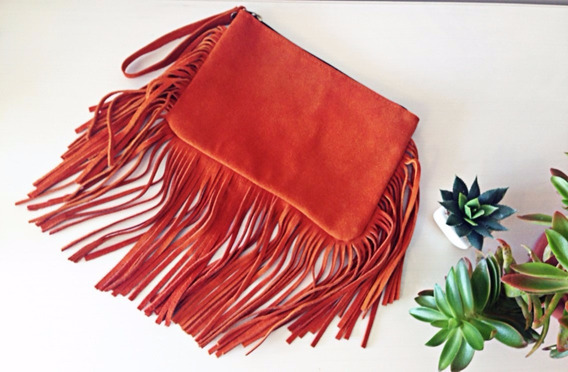cartera: (162, 7, 423, 246)
